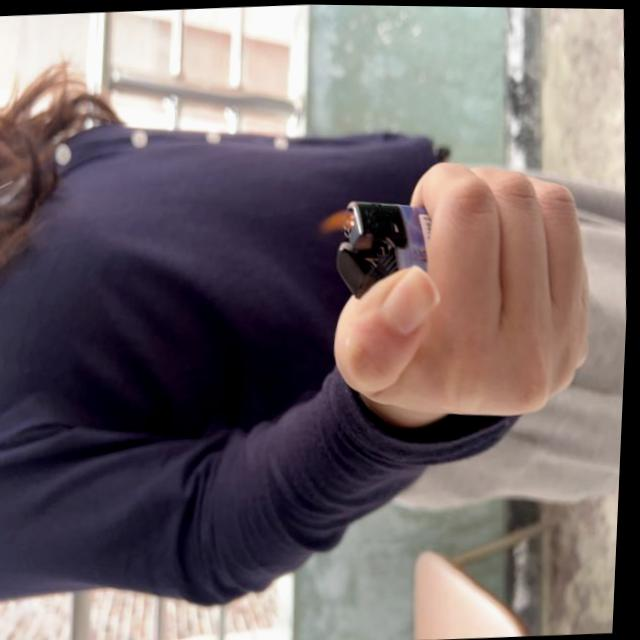helmet: (316, 204, 359, 240)
